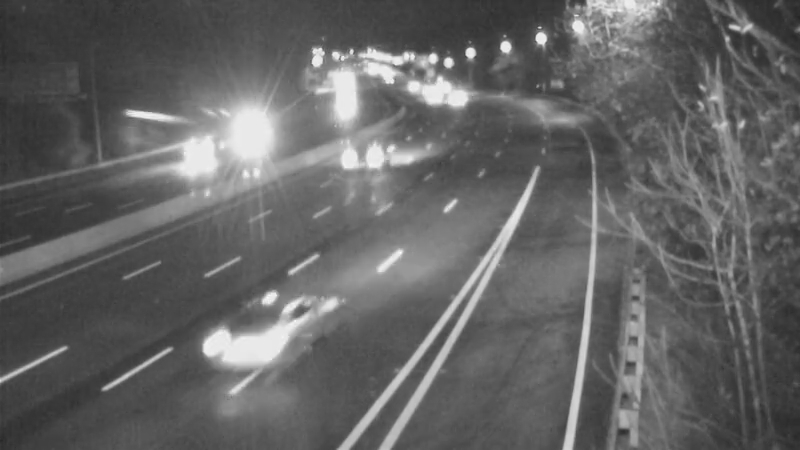vehicle: (194, 285, 304, 395), (316, 122, 396, 202), (163, 116, 243, 196), (384, 60, 434, 110), (407, 72, 457, 122), (430, 76, 480, 126), (224, 107, 274, 157)
